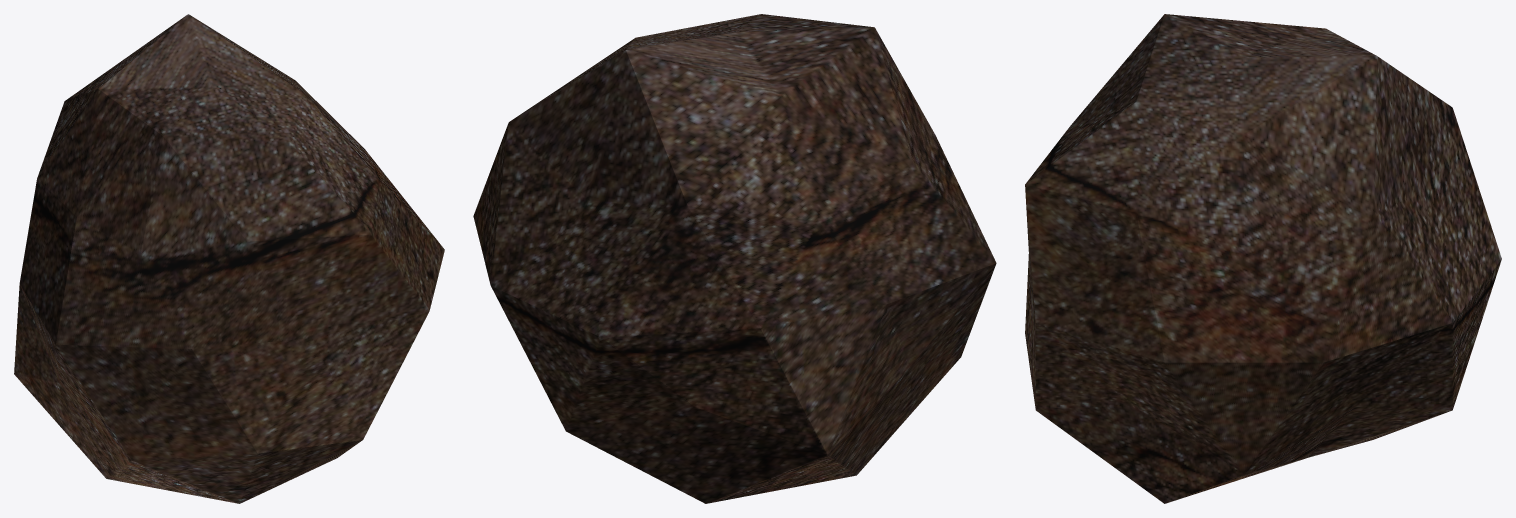
Rendered from stone.fbx.
3 views of the same model, side by side, from view 1: azimuth 30°, elevation 25°; view 2: azimuth 150°, elevation 25°; view 3: azimuth 270°, elevation 25° (orthographic). The views are drawn at different scales.
Visible parts, largest first — view 1: Icosphere.001; view 2: Icosphere.001; view 3: Icosphere.001.
Part boxes in pixels (<box>): Icosphere.001: <box>14,14,444,503</box>; Icosphere.001: <box>473,14,996,503</box>; Icosphere.001: <box>1025,14,1501,503</box>.
Bounding box in the file's own units: 185 × 180 × 190.
